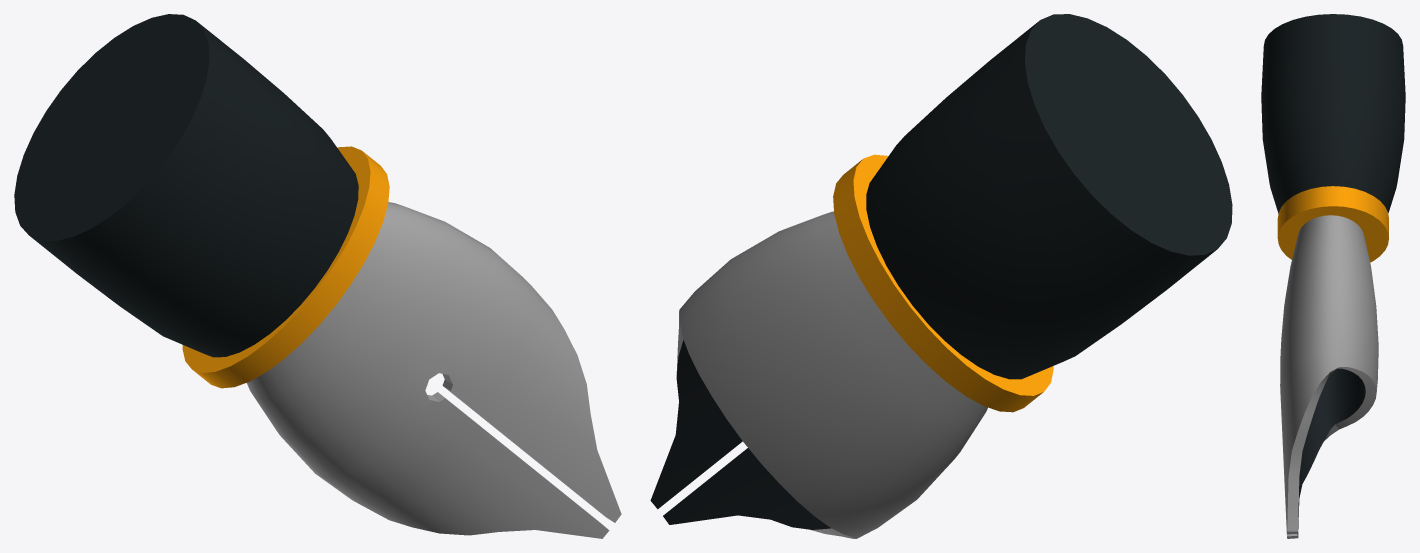
File: black_nib.gltf
The picture shows the model from 3 angles, left to right: view 1: azimuth 30°, elevation 25°; view 2: azimuth 150°, elevation 25°; view 3: azimuth 270°, elevation 25°; orthographic projection. The views are drawn at different scales.
Visible parts, largest first — view 1: Cylinder.504; view 2: Cylinder.504; view 3: Cylinder.504.
Boxes of the visible parts, box(x1,y1,x2,y2) form: Cylinder.504: box(14, 14, 621, 538); Cylinder.504: box(650, 14, 1232, 538); Cylinder.504: box(1261, 14, 1405, 538).
Bounding box in the file's own units: 2.08 × 2.08 × 0.6811.
Materials: 1 (1 with a texture image).
